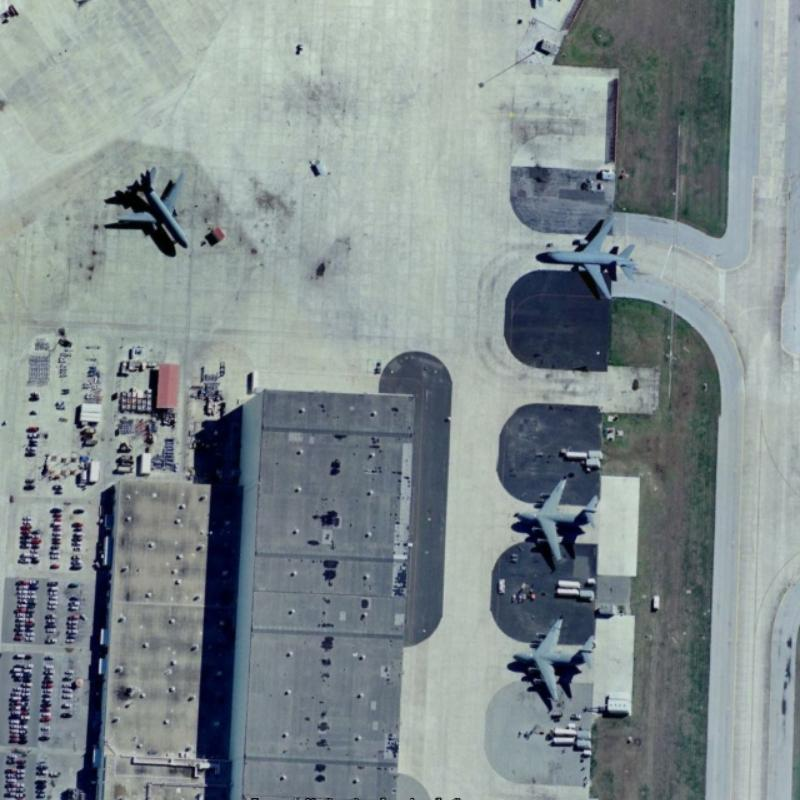A18: (531, 210, 643, 306), (106, 155, 199, 253)
A3: (499, 469, 605, 568), (509, 610, 599, 710)
